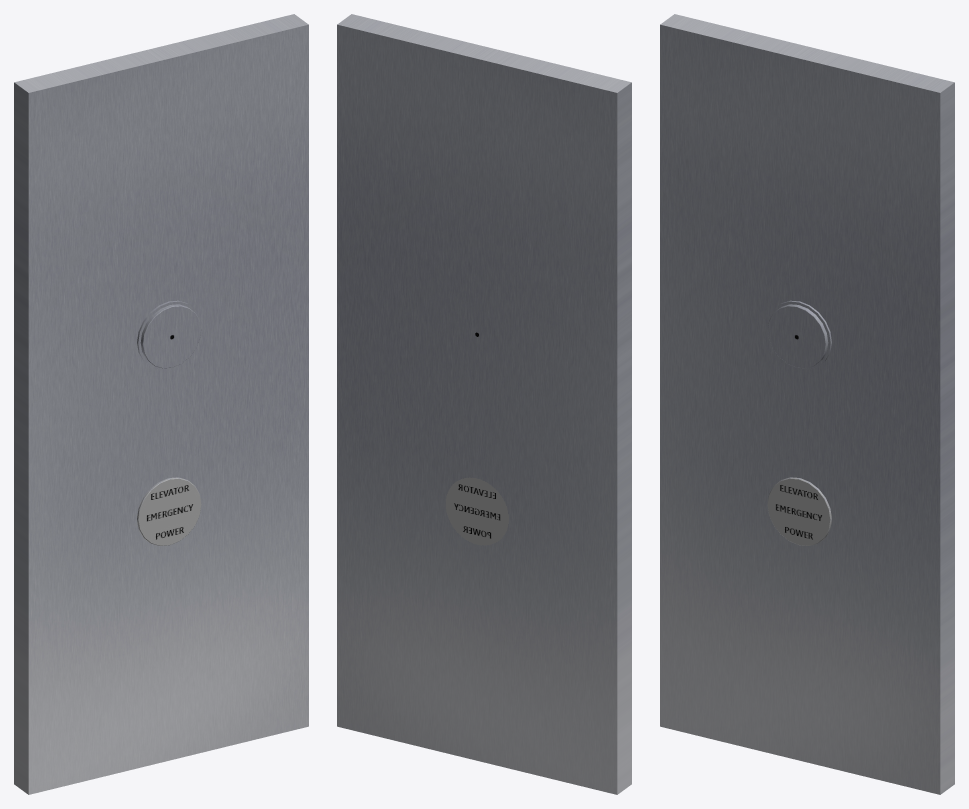
The model's file is elevator_sign_2_FBX.fbx.
The picture shows the model from 3 angles, left to right: view 1: azimuth 30°, elevation 25°; view 2: azimuth 150°, elevation 25°; view 3: azimuth 330°, elevation 25°; orthographic projection.
Parts seen in each view (by area): view 1: pCube1, pCylinder2, pCylinder1; view 2: pCube1; view 3: pCube1, pCylinder2, pCylinder1.
Part boxes in pixels (x1,y1,x2,y2): pCube1: (14,14,308,794); pCylinder2: (137,300,201,369); pCylinder1: (137,477,201,545); pCube1: (337,14,631,794); pCube1: (660,14,954,794); pCylinder2: (767,300,831,369); pCylinder1: (767,477,831,545).
Bounding box in the file's own units: 8.82 × 21.11 × 0.9802.
Materials: 1 (1 with a texture image).
